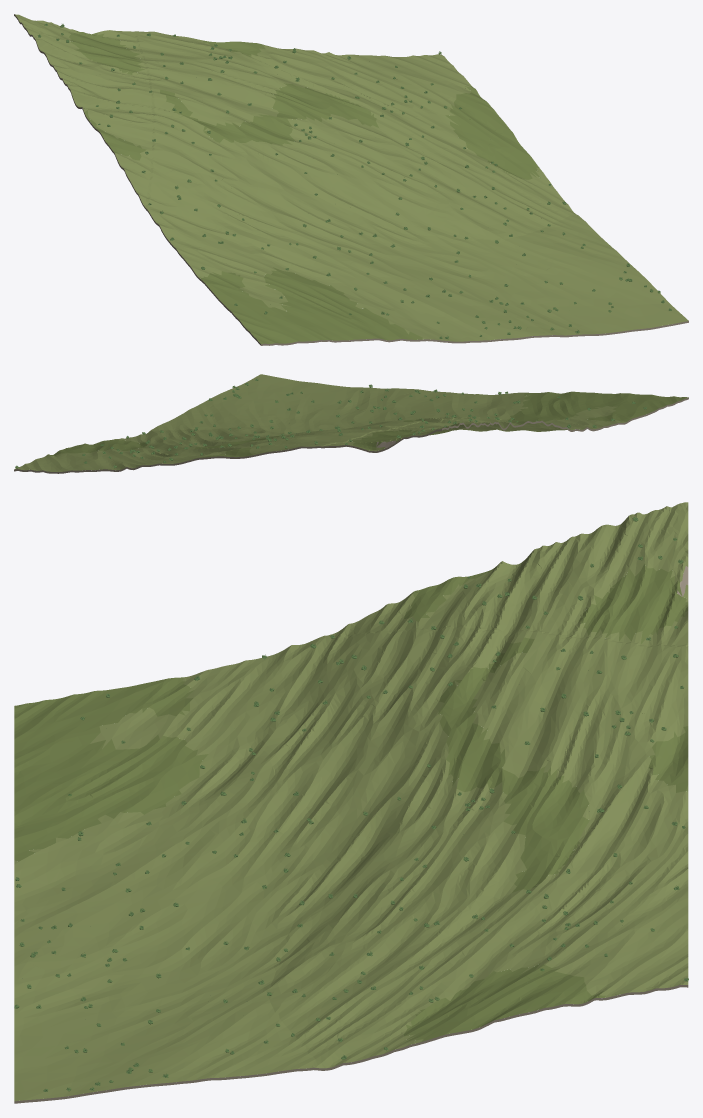
Rendered from parca_+8_-7-yakin.glb.
3 renders of one model, top to bottom at view 1: azimuth 30°, elevation 25°; view 2: azimuth 150°, elevation 25°; view 3: azimuth 270°, elevation 25°, orthographic. The views are drawn at different scales.
Parts seen in each view (by area): view 1: parca_+8_-7_arazi, parca_+8_-7_bitkiler; view 2: parca_+8_-7_arazi, parca_+8_-7_bitkiler; view 3: parca_+8_-7_arazi, parca_+8_-7_bitkiler.
Boxes of the visible parts, <box> form: parca_+8_-7_arazi: <box>14,14,688,345</box>; parca_+8_-7_bitkiler: <box>37,23,671,339</box>; parca_+8_-7_arazi: <box>14,374,688,473</box>; parca_+8_-7_bitkiler: <box>15,378,646,468</box>; parca_+8_-7_arazi: <box>14,502,688,1103</box>; parca_+8_-7_bitkiler: <box>14,517,688,1091</box>.
Size of the model in its own units: 1000 by 519 by 1002.
